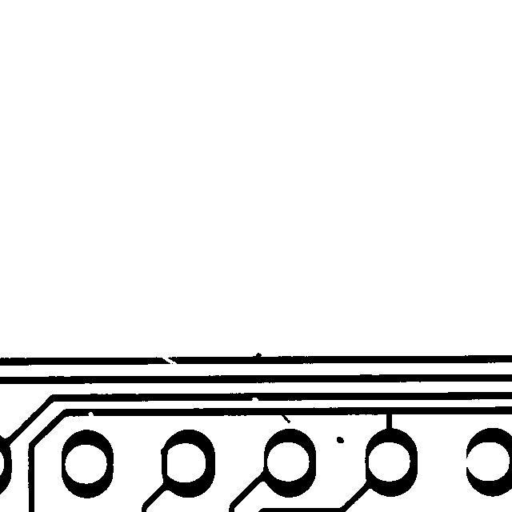copper: (329, 429, 351, 450)
mousebite: (80, 404, 102, 425), (244, 390, 266, 409)
open: (154, 348, 184, 372)
short: (153, 439, 175, 483), (377, 401, 399, 441)
spur: (274, 405, 298, 430), (244, 345, 269, 366)
